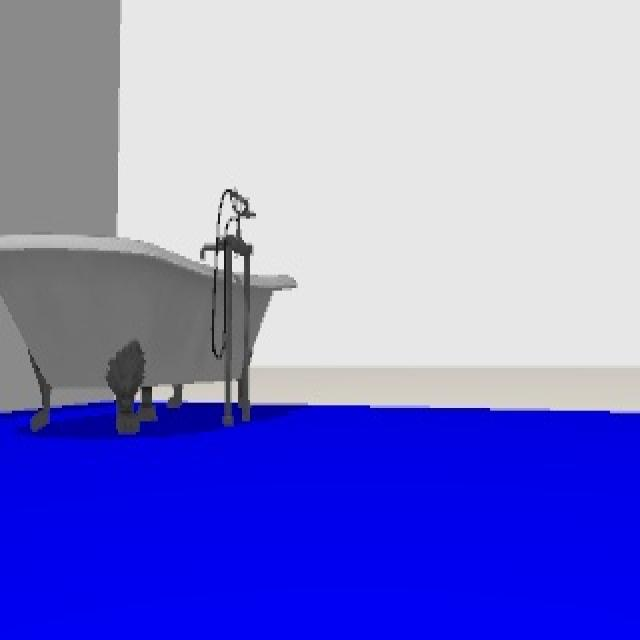bathtub: (2, 182, 302, 434)
